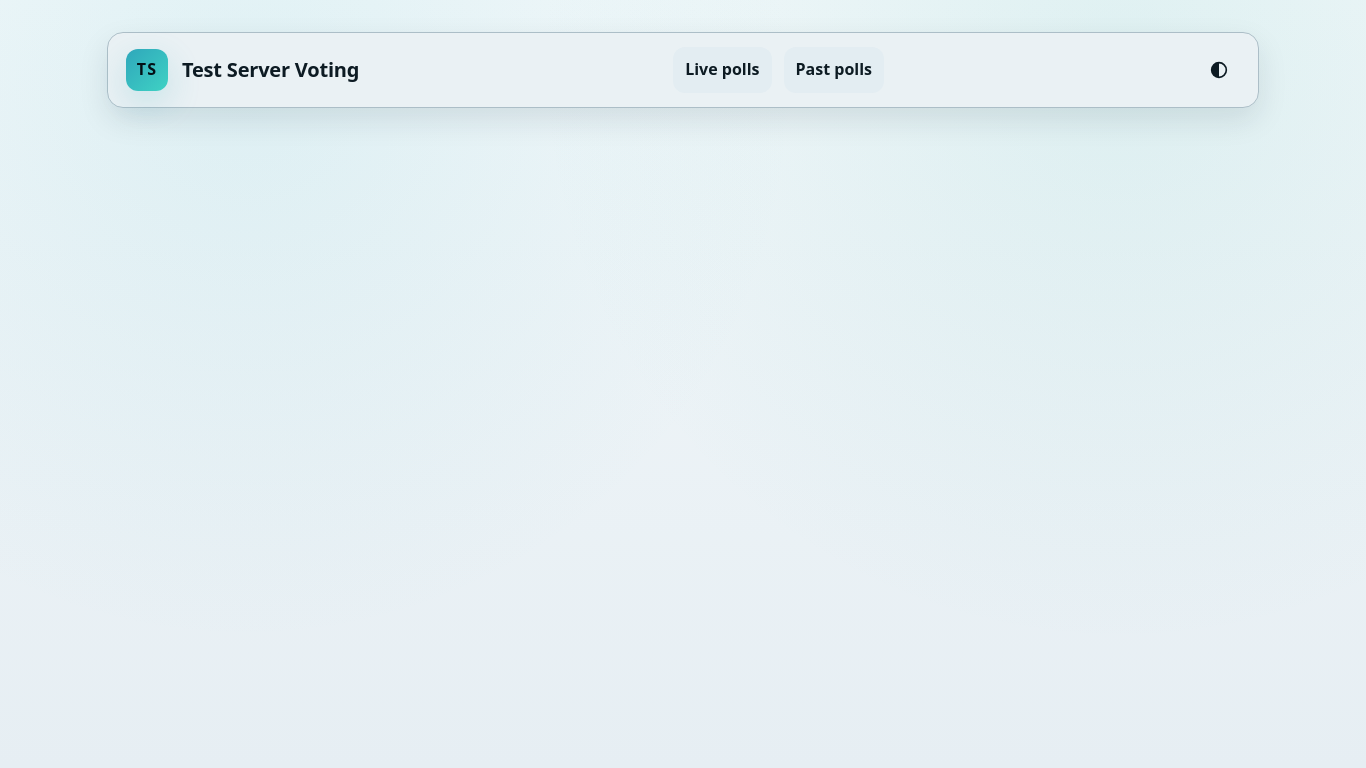
Test: Topbar › cycles theme mode system → light → dark → system
Step 1. Click the button named "Theme: System" → (1219, 70), box [1198, 49, 1240, 91]
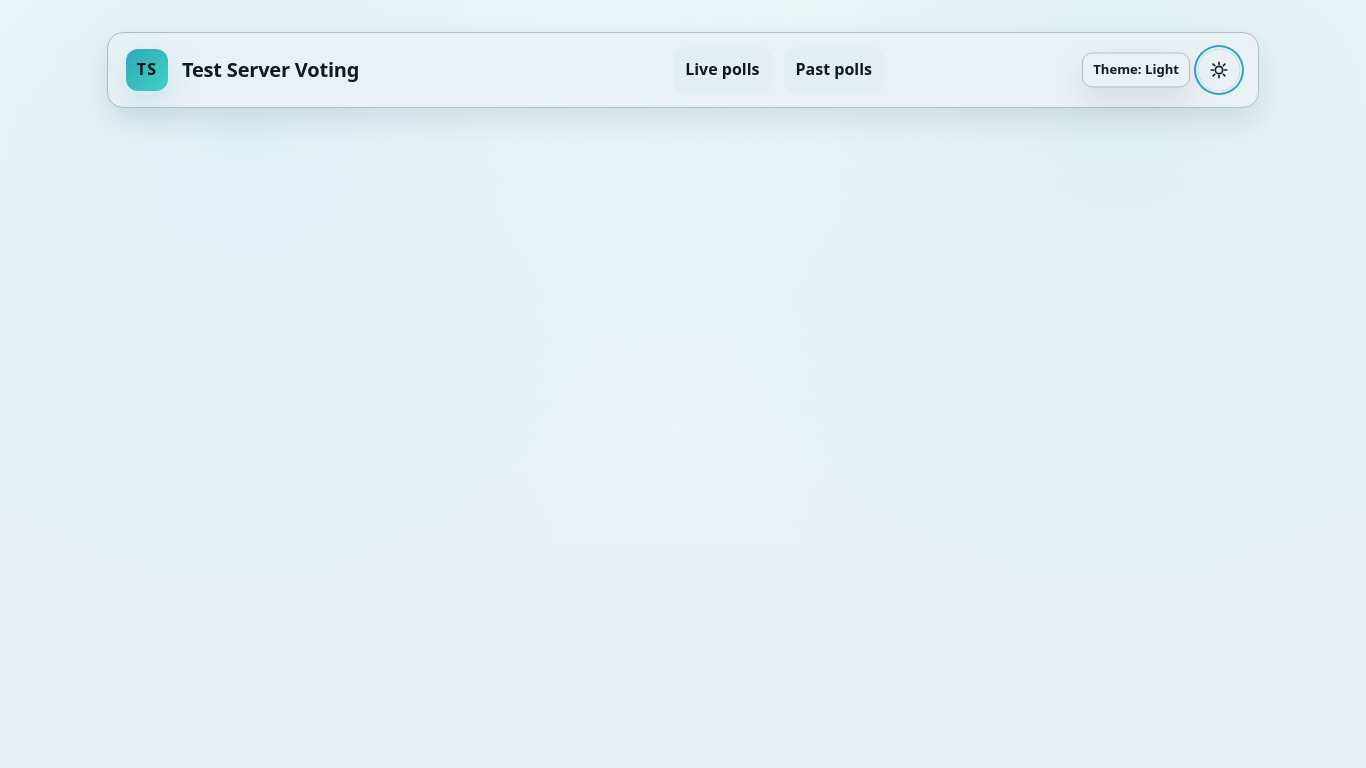
Check: the button named "Theme: Light" is shown
Check: the tooltip reads "Theme: Light", box [1093, 60, 1179, 78]
Step 2. Click the button named "Theme: Light" → (1219, 70), box [1198, 49, 1240, 91]
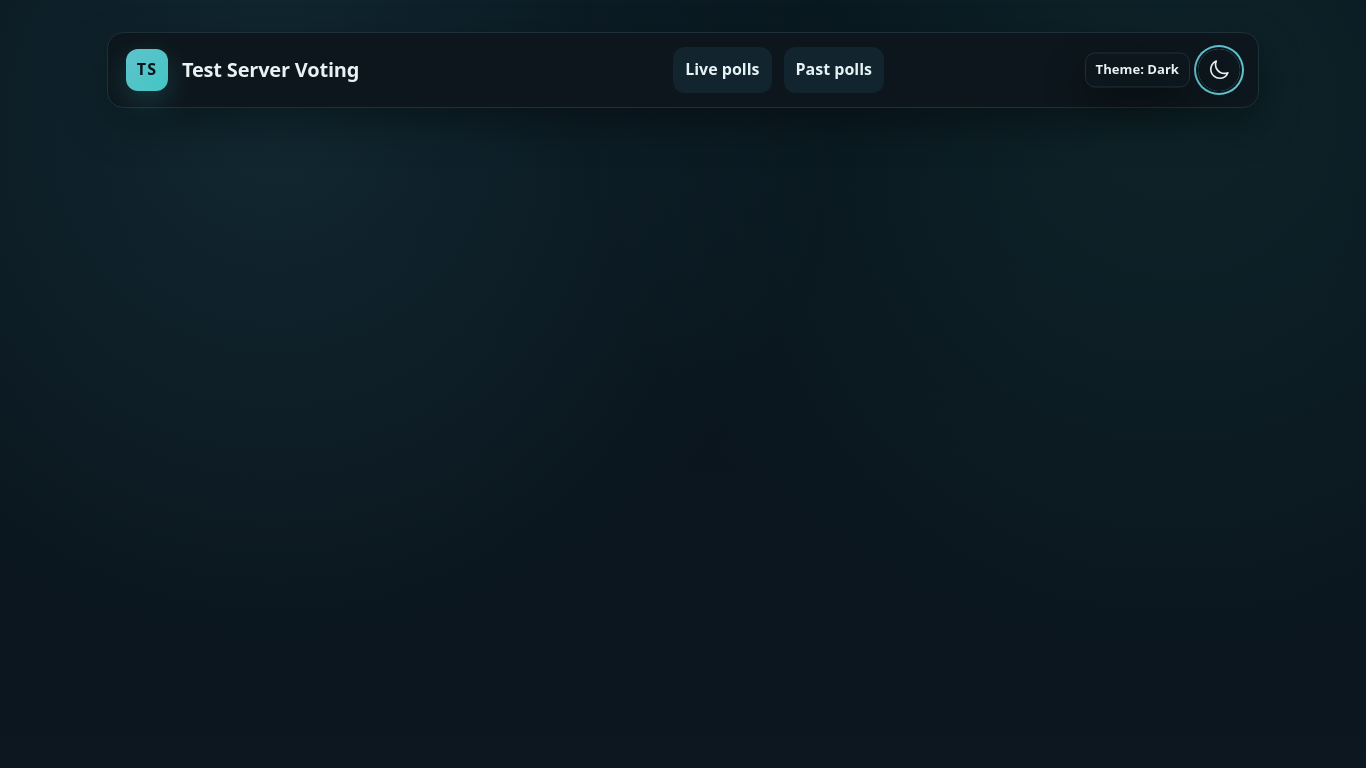
Check: the button named "Theme: Dark" is shown
Check: the tooltip reads "Theme: Dark", box [1096, 60, 1179, 78]
Step 3. Click the button named "Theme: Dark" → (1219, 70), box [1198, 49, 1240, 91]
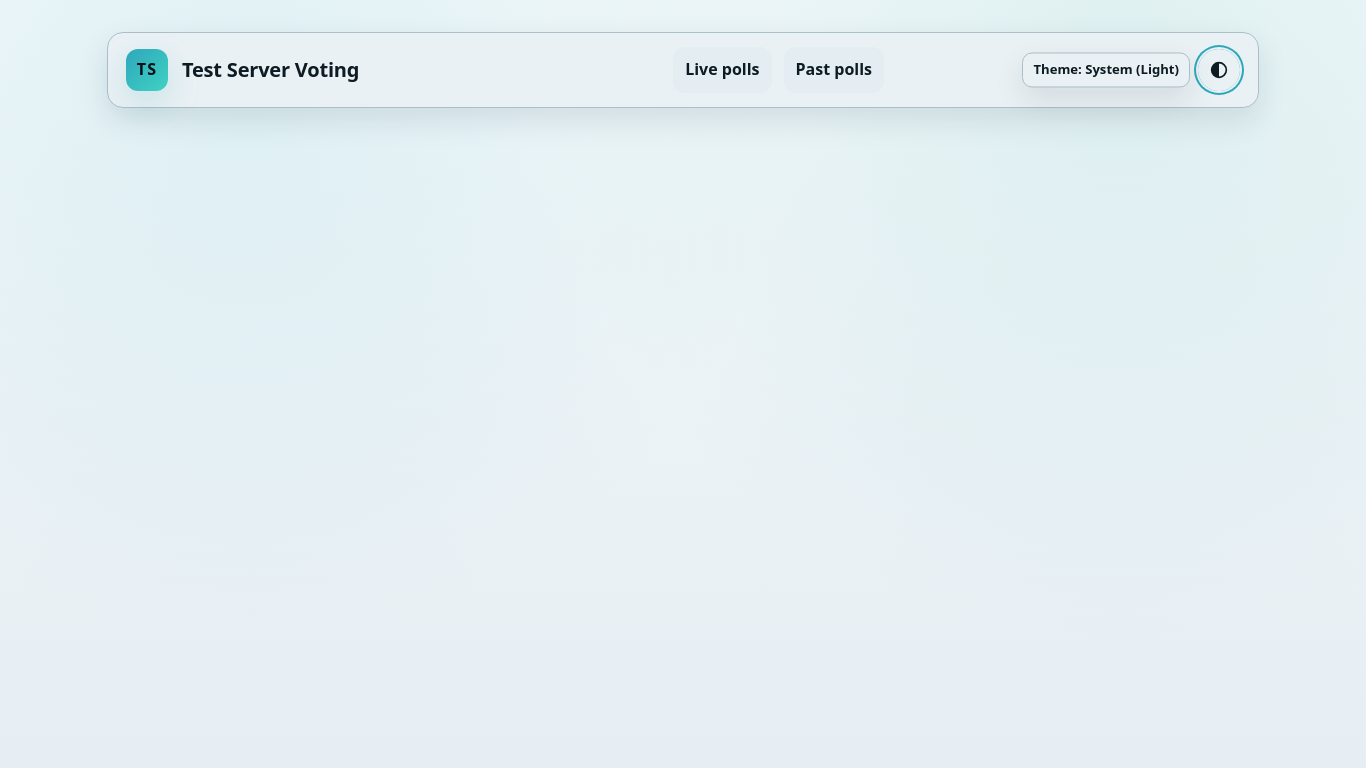
Check: the button named "Theme: System" is shown, box [1198, 49, 1240, 91]
Check: the tooltip shows "Theme: System", box [1034, 60, 1179, 78]
